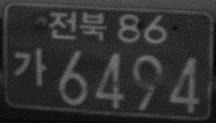4: (167, 54, 201, 117), (93, 52, 126, 112)
6: (58, 49, 88, 107), (144, 13, 168, 45)
8: (118, 12, 141, 45)
9: (130, 52, 163, 110)
가: (14, 47, 48, 87)
전북_O: (49, 10, 107, 43)
